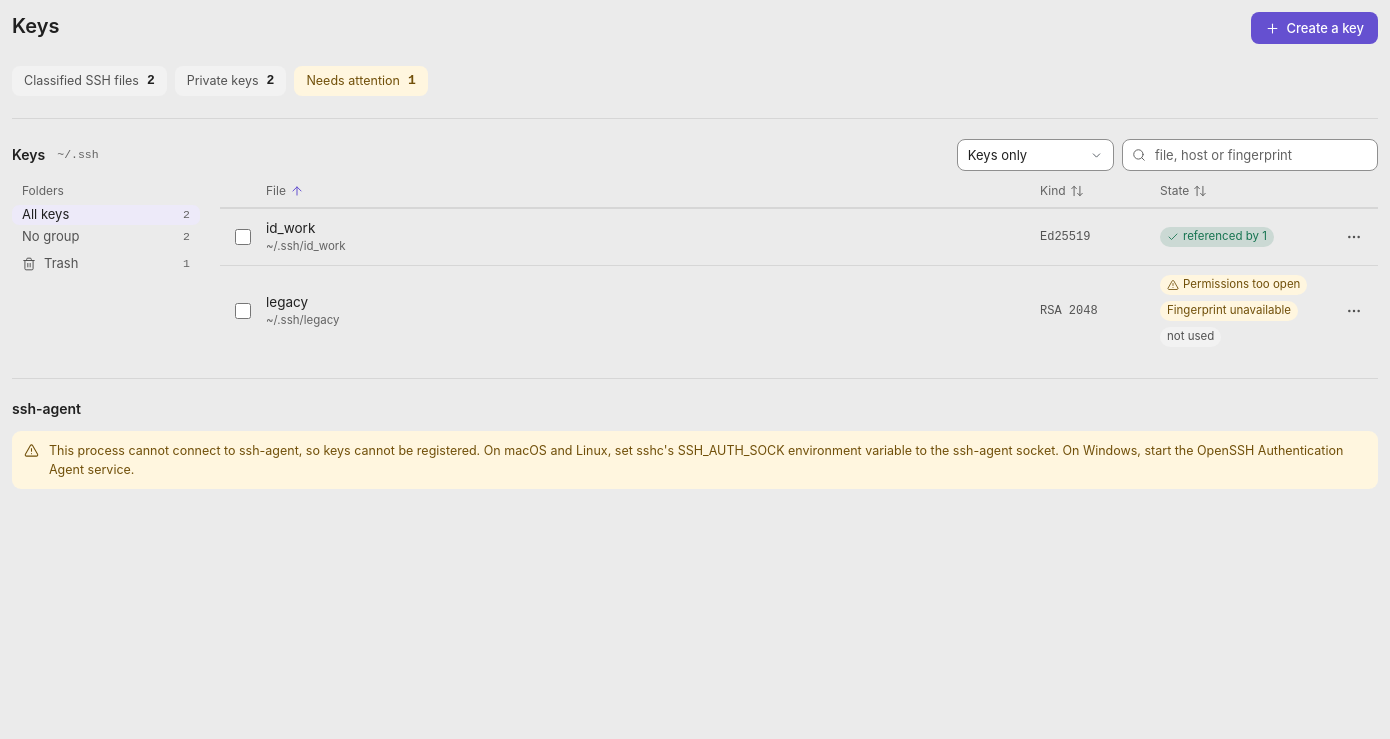
KeysScreen › opens key creation from the heading and offers safe next steps after in-process generation
Expected: the field labelled "File name" is not shown
Click the button "Create a key": (1315, 28) [1251,12,1378,44]
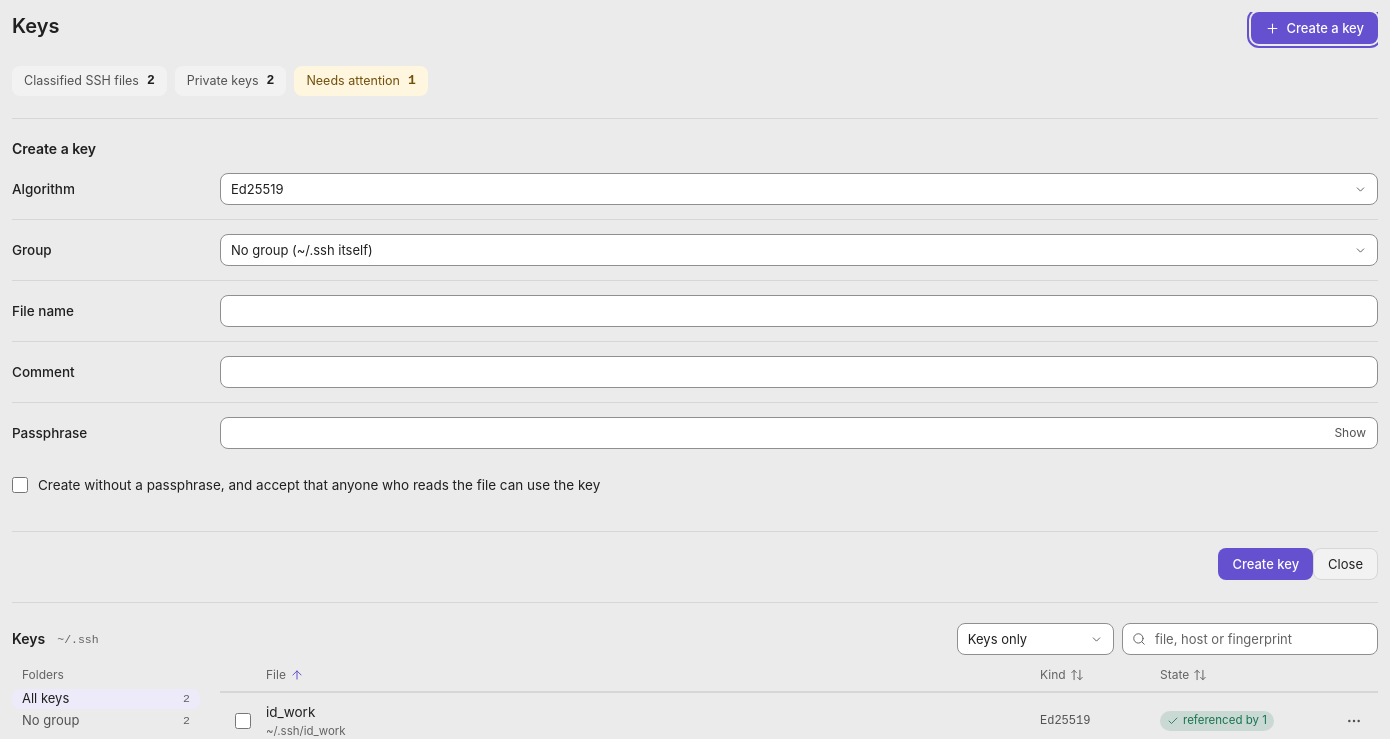
In the field labelled "File name": (799, 311) [220,295,1378,327], type "id_new"
In the password field named "Passphrase": (799, 433) [220,417,1378,449], type "one-time secret"
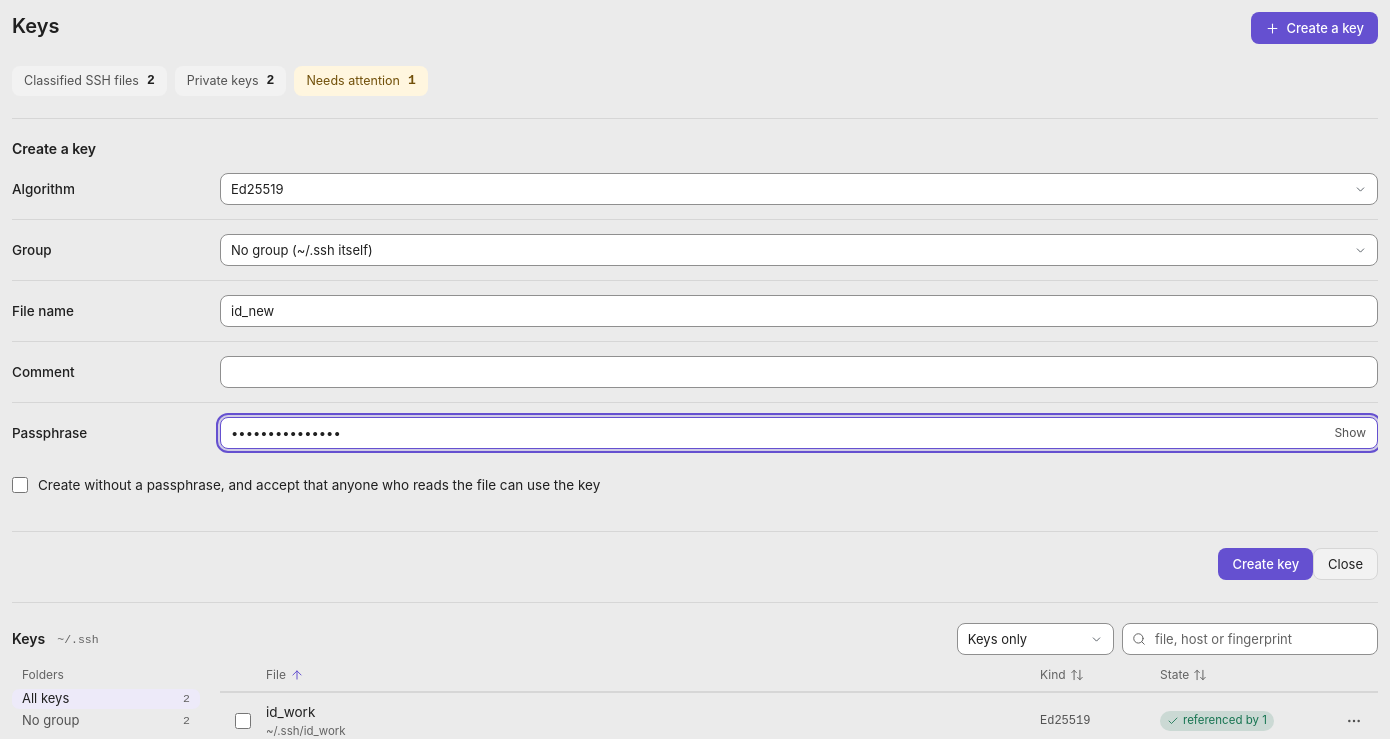
Click the button "Create key": (1266, 564) [1218,548,1313,580]
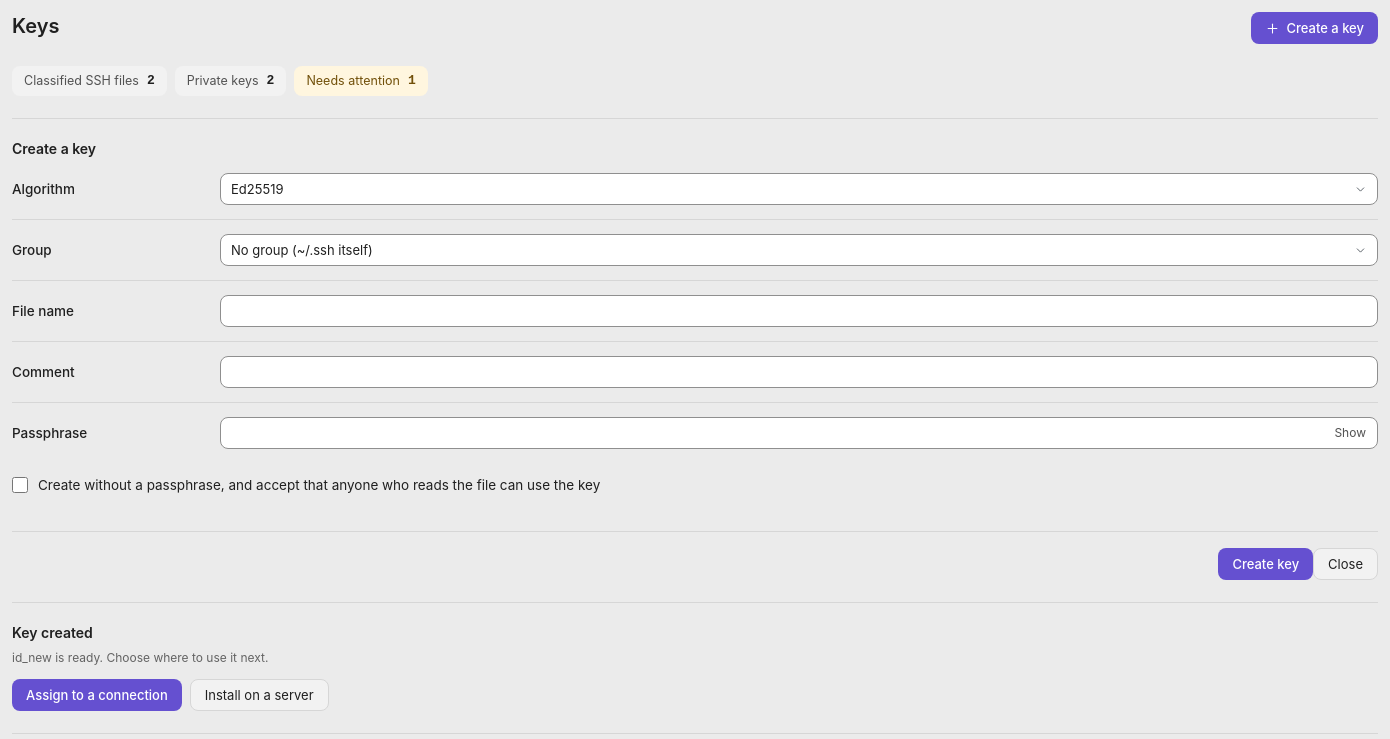
Click the button "Assign to a connection": (97, 695) [12,679,182,711]
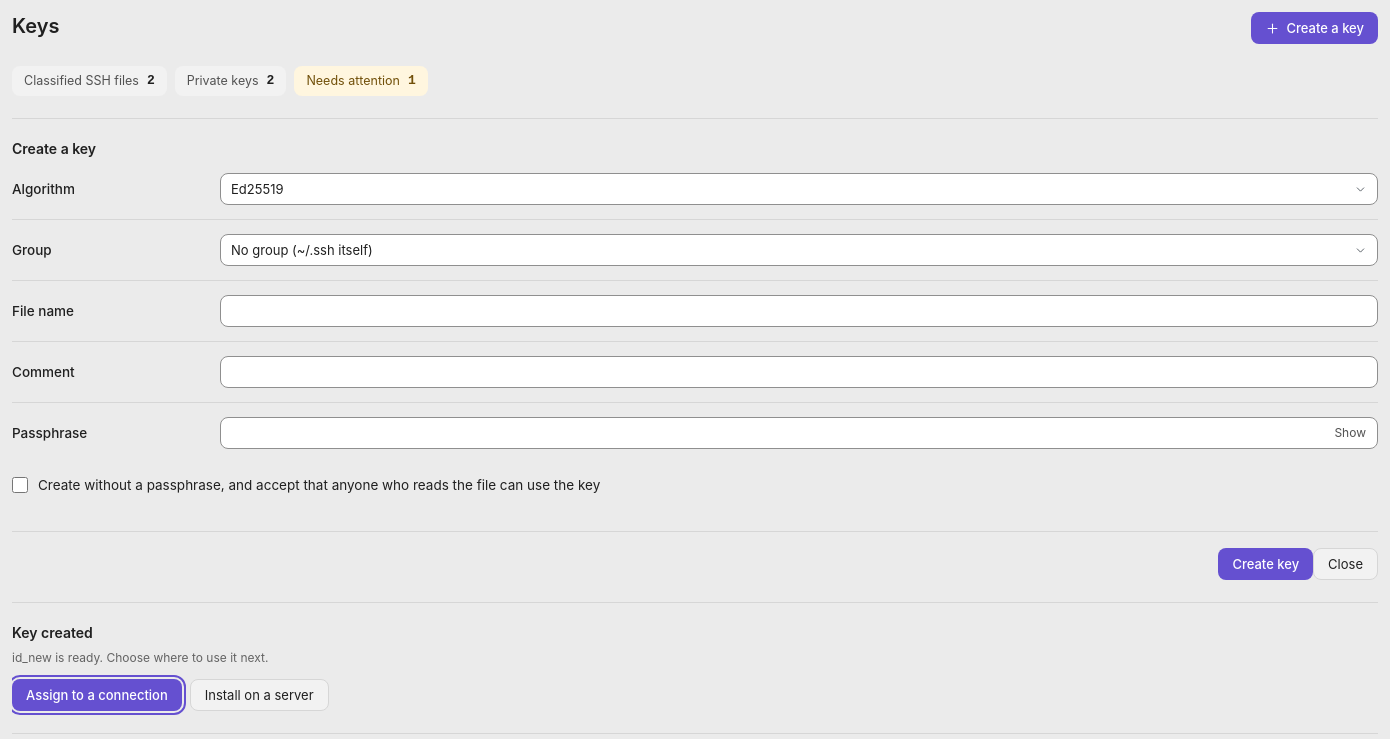
Click the button "Install on a server": (259, 695) [190,679,329,711]
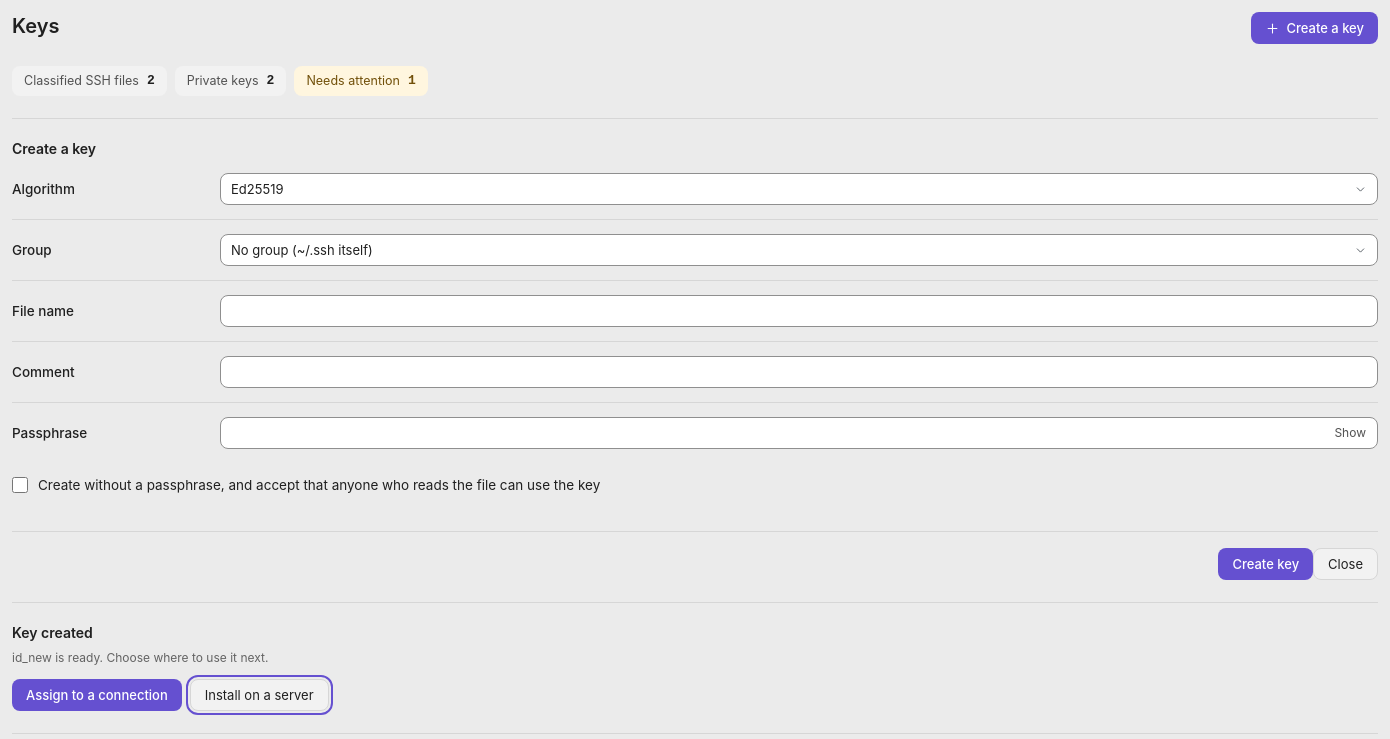
Click the button "Close": (1346, 564) [1313,548,1378,580]
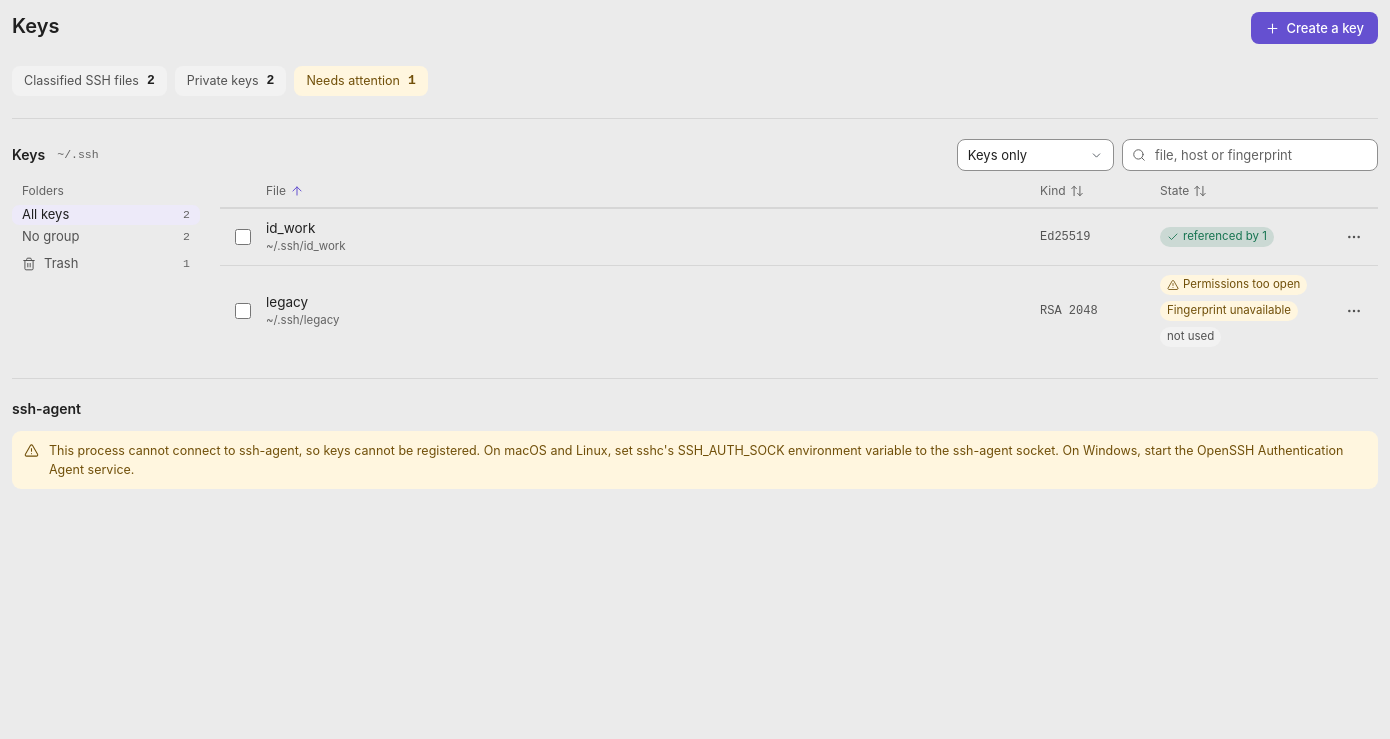
Now the text labelled "File name" is gone
